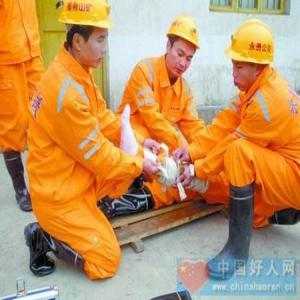yellow: (225, 18, 278, 93), (59, 2, 111, 73), (167, 15, 201, 77)
